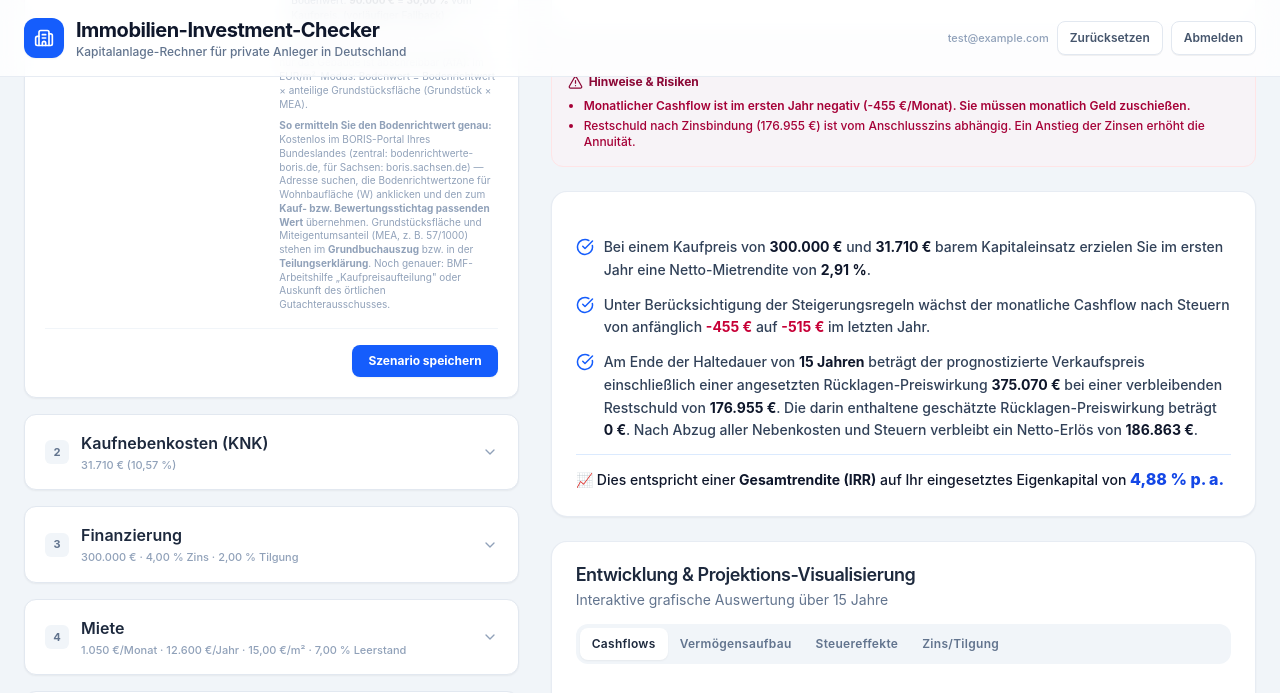
Szenario speichern über Abschnitts-Buttons › fragt vor dem Überschreiben mit eigenem Dialog nach und speichert erst nach Bestätigung
(page scrolled)
Click the button "Szenario speichern": (425, 361) [352, 345, 498, 377]
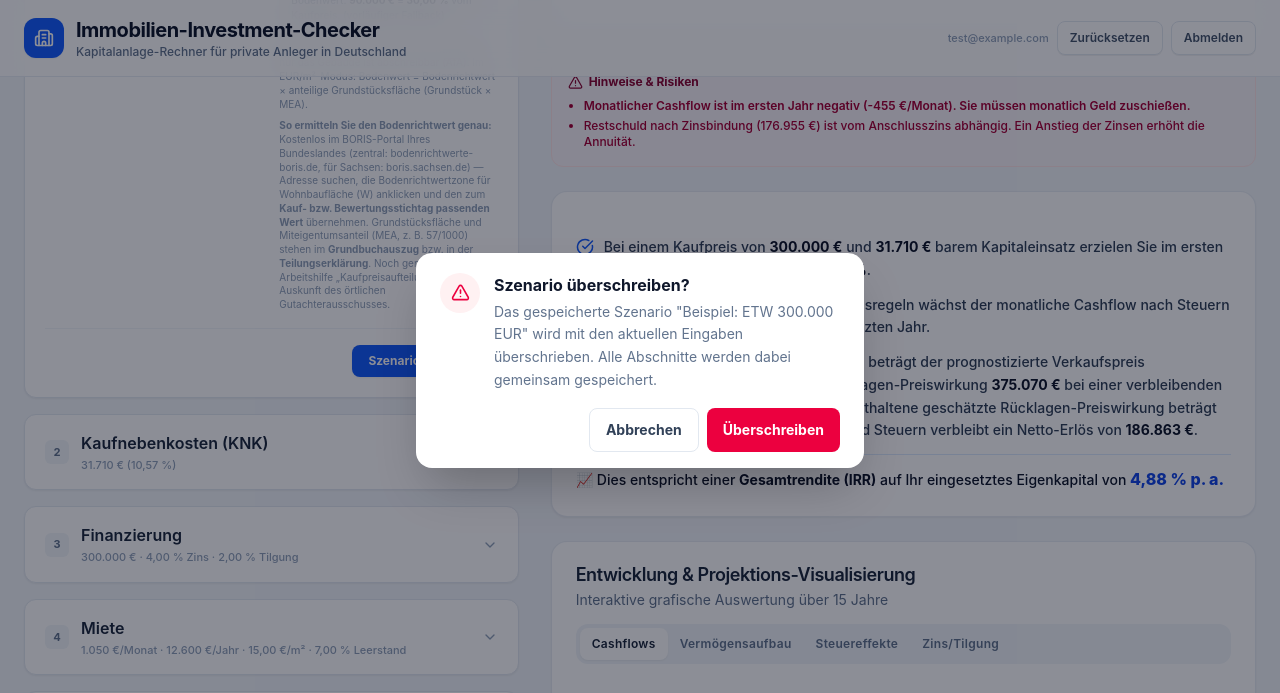
Expected: the dialog shows "Szenario überschreiben?", [494, 274, 690, 294]
# Abbrechen: nichts überschrieben
Click the button "Abbrechen": (644, 430) [589, 408, 699, 452]
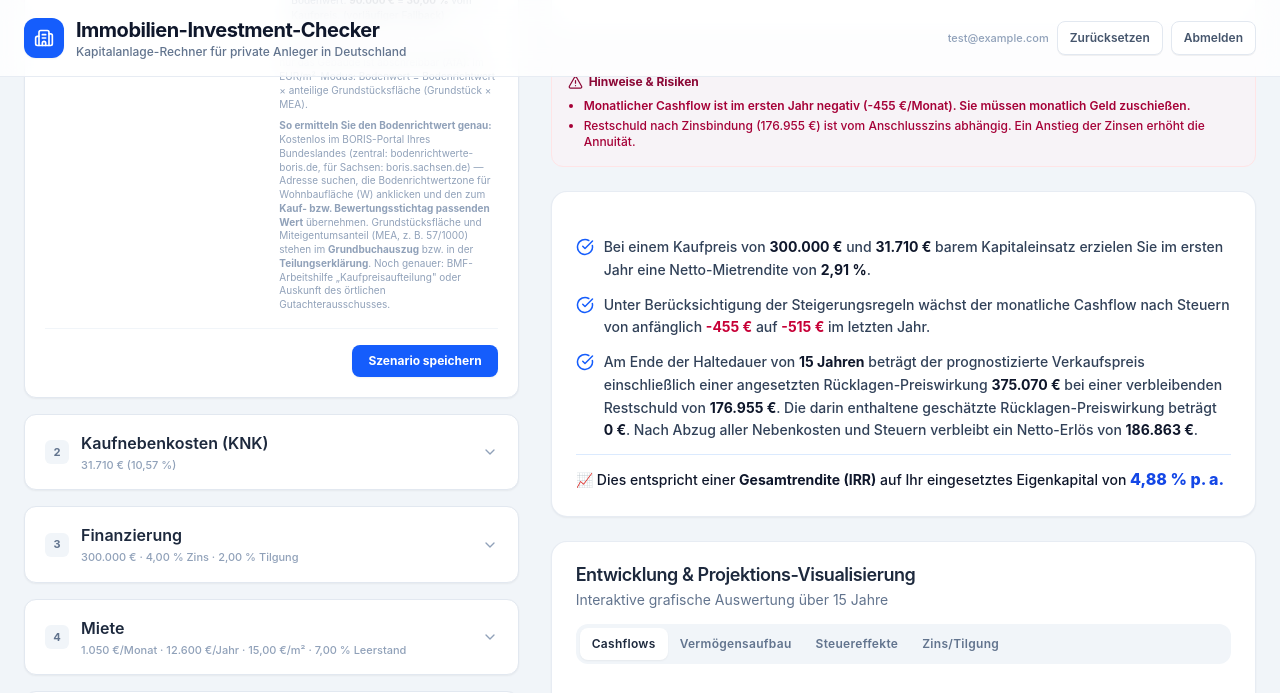
Expected: the dialog is gone
# Erneut speichern und bestätigen
Click the button "Szenario speichern": (425, 361) [352, 345, 498, 377]
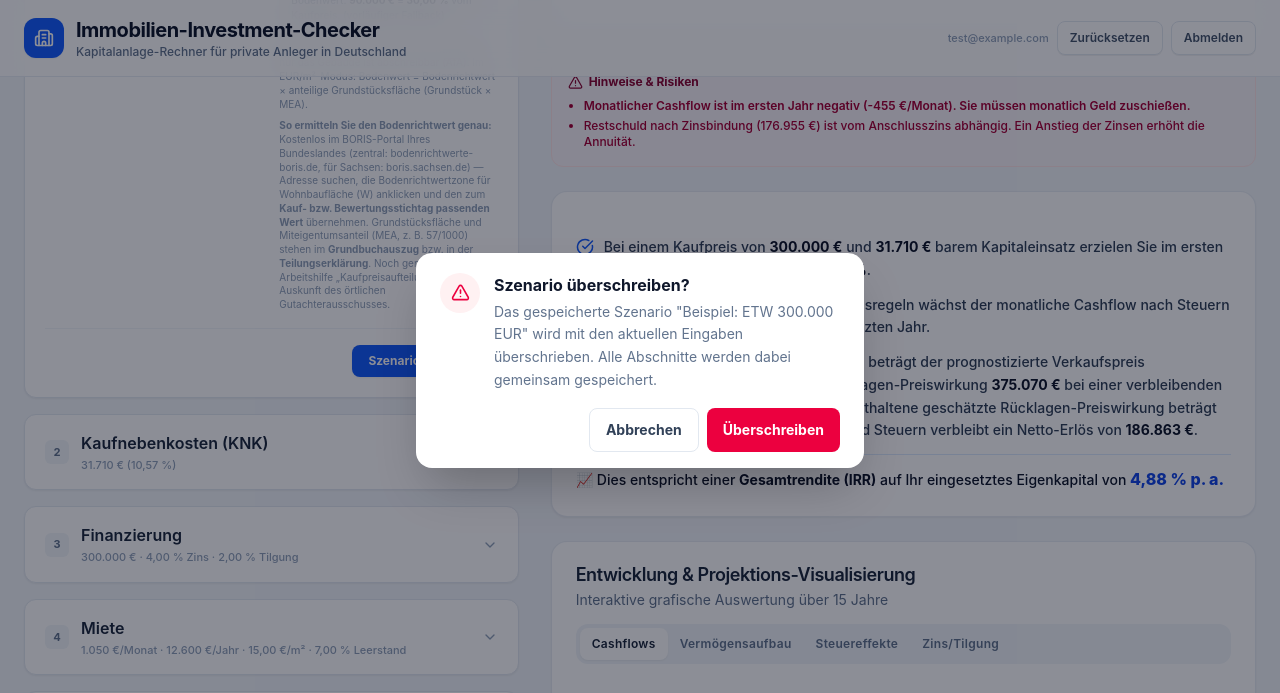
Click the button "Überschreiben": (773, 430) [707, 408, 840, 452]
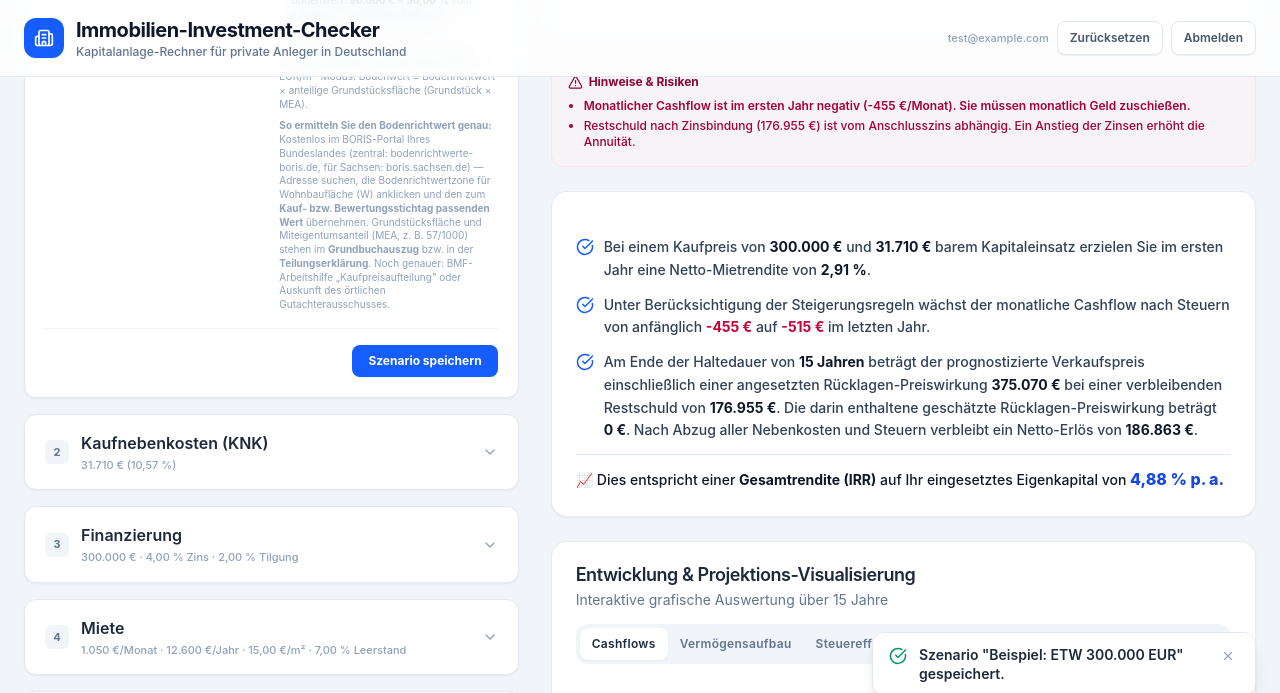
Expected: the message shows "gespeichert", [919, 646, 1184, 682]
